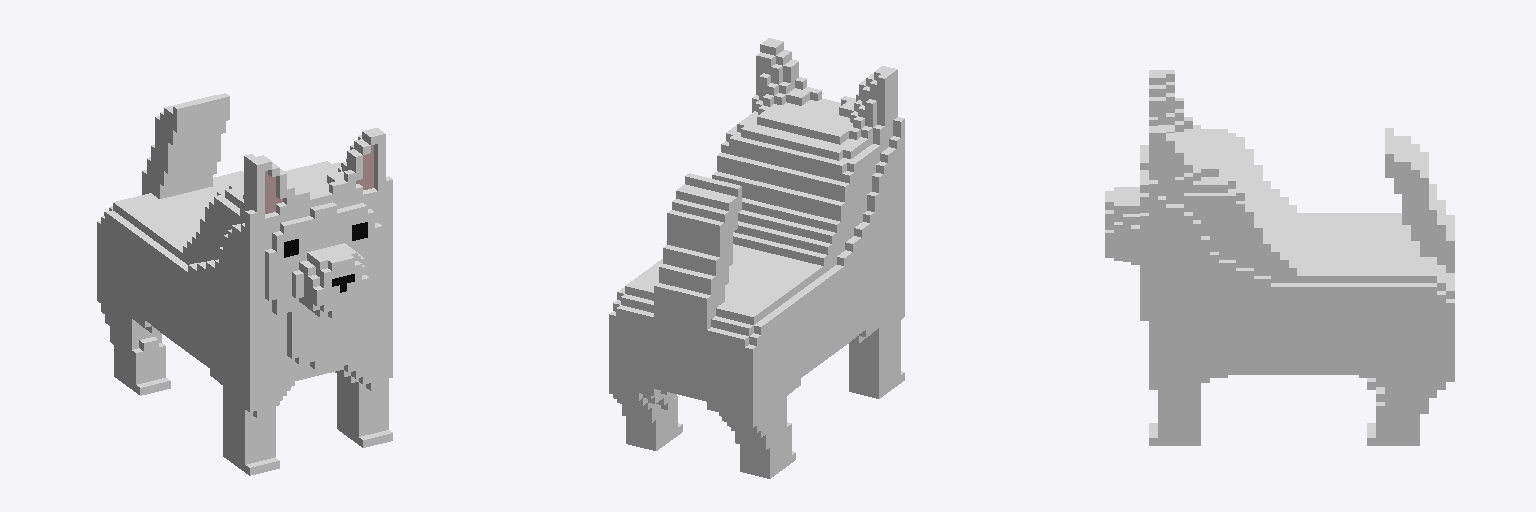
3 views of the same model, side by side, from view 1: azimuth 30°, elevation 25°; view 2: azimuth 150°, elevation 25°; view 3: azimuth 270°, elevation 25° (orthographic).
Parts seen in each view (by area): view 1: object 1; view 2: object 1; view 3: object 1.
Boxes of the visible parts, box(x1,y1,x2,y2) form: object 1: box(97, 93, 392, 475); object 1: box(609, 38, 904, 478); object 1: box(1105, 70, 1454, 445).
Size of the model in its own units: 1.9 by 3.9 by 4.
1 materials, 1 textured.